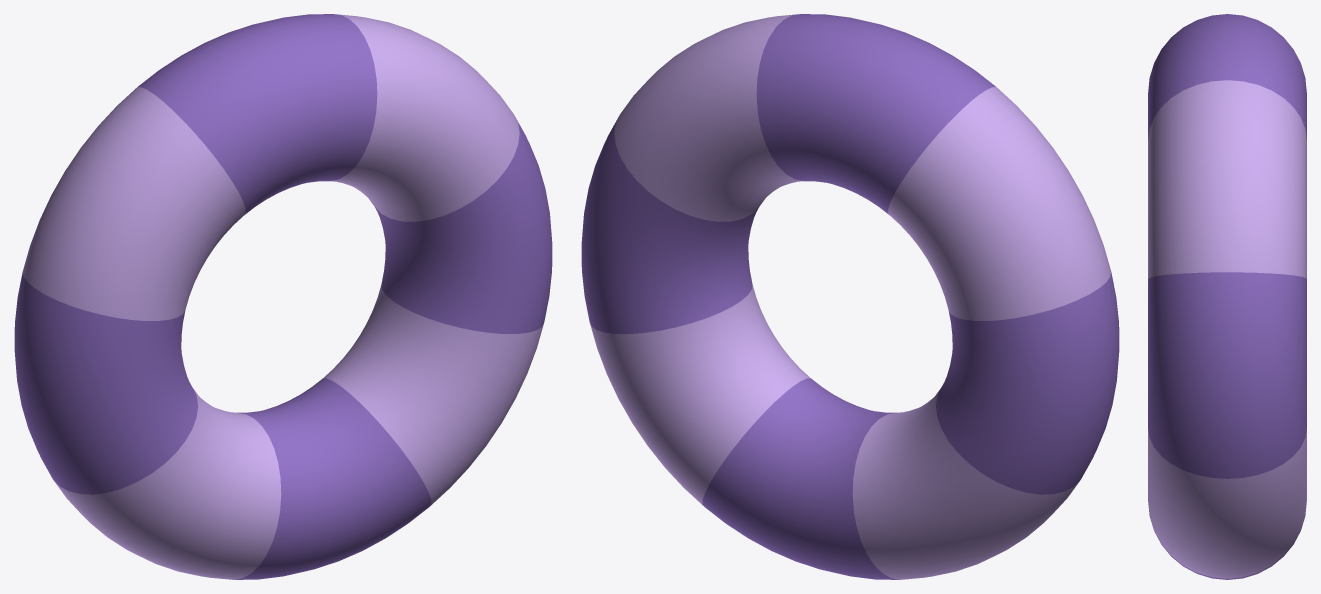
File: Lifebuoy.gltf
3 views of the same model, side by side, from view 1: azimuth 30°, elevation 25°; view 2: azimuth 150°, elevation 25°; view 3: azimuth 270°, elevation 25° (orthographic). The views are drawn at different scales.
Visible parts, largest first — view 1: Torus, Torus 8, Torus 2, Torus 7, Torus 5, Torus 3, Torus 4, Torus 6; view 2: Torus, Torus 8, Torus 2, Torus 7, Torus 5, Torus 3, Torus 4, Torus 6; view 3: Torus 6, Torus 7, Torus 5, Torus 8, Torus 4.
Boxes of the visible parts, x1,y1,x2,y2 form: Torus: (22,87,245,320); Torus 8: (138,14,377,215); Torus 2: (14,272,197,494); Torus 7: (330,14,519,221); Torus 5: (323,285,543,505); Torus 3: (53,388,281,579); Torus 4: (235,378,431,579); Torus 6: (375,117,552,333); Torus: (888,87,1111,320); Torus 8: (756,14,995,215); Torus 2: (936,272,1119,494); Torus 7: (614,14,803,221); Torus 5: (590,285,810,505); Torus 3: (852,388,1080,579); Torus 4: (702,378,898,579); Torus 6: (581,117,758,333); Torus 6: (1148,272,1306,478); Torus 7: (1148,80,1306,278); Torus 5: (1148,429,1306,578); Torus 8: (1148,14,1306,139); Torus 4: (1148,501,1306,579).
Bounding box in the file's own units: 1.54 × 1.54 × 0.4324.
